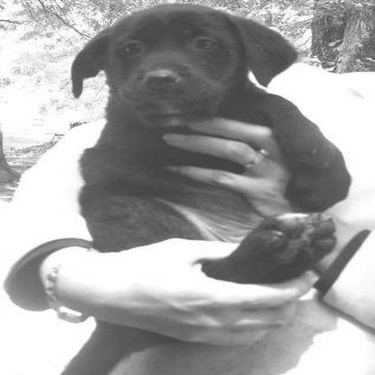dog: (45, 1, 355, 369)
